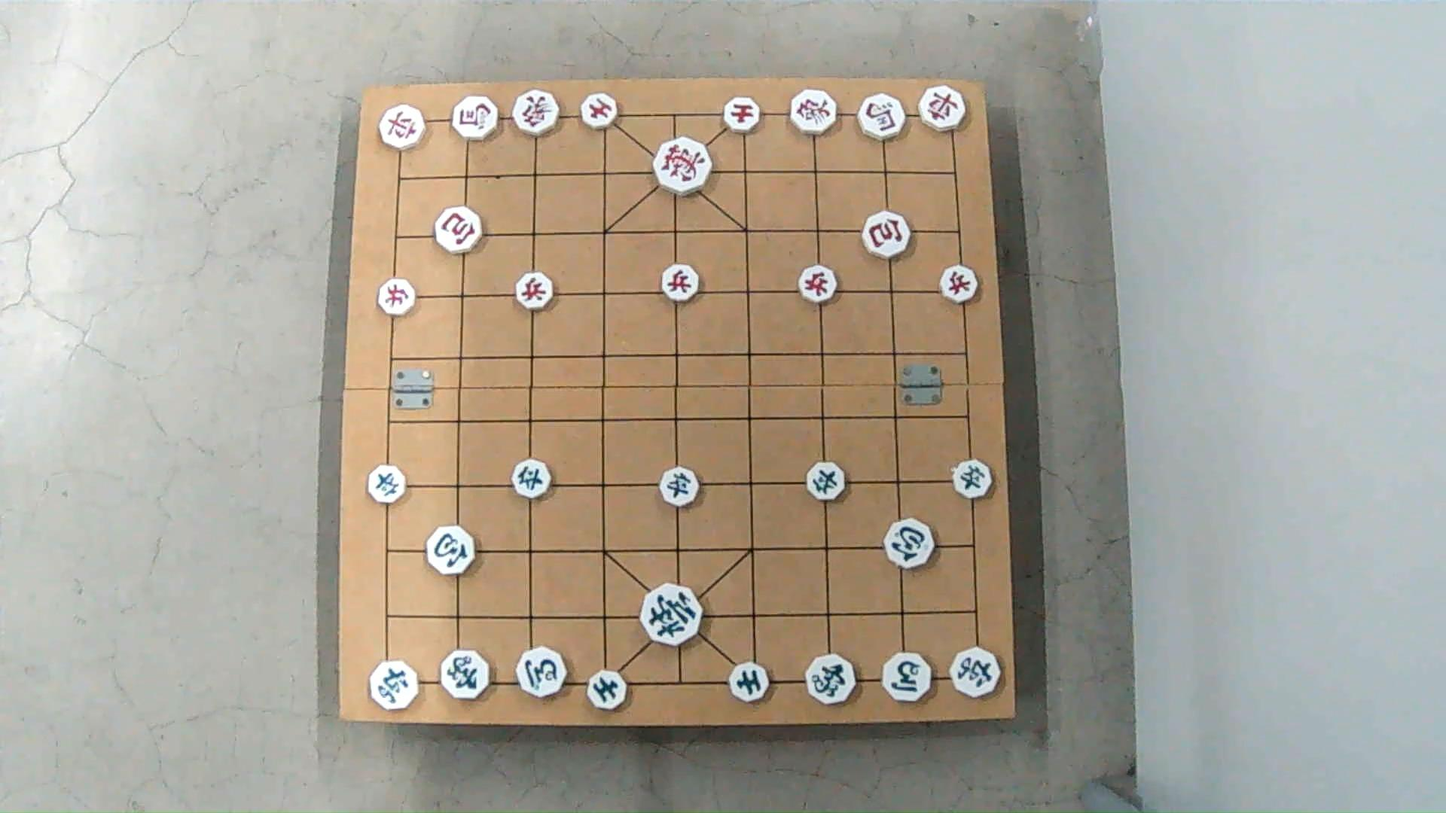cha_green: (950, 645, 1001, 699), (371, 662, 420, 708)
cha_red: (920, 87, 969, 129), (377, 107, 426, 148)
jol_green: (658, 468, 698, 506), (807, 462, 848, 499), (950, 462, 990, 499), (510, 460, 550, 497), (368, 468, 407, 505)
jol_red: (517, 273, 557, 309), (798, 266, 838, 302), (940, 266, 980, 301), (659, 265, 697, 300), (377, 279, 415, 314)
ma_green: (881, 650, 934, 706), (517, 647, 567, 699)
ma_red: (853, 95, 903, 138), (452, 98, 500, 140)
po_green: (883, 521, 935, 568), (429, 528, 477, 572)
po_red: (864, 212, 914, 257), (435, 209, 484, 252)
sa_green: (731, 659, 771, 702), (586, 670, 628, 710)
sa_red: (580, 95, 620, 129), (722, 99, 761, 131)
sang_green: (804, 654, 859, 706), (440, 648, 492, 701)
sang_red: (512, 88, 563, 137), (788, 90, 837, 135)
wang_green: (641, 587, 703, 646)
wang_red: (654, 139, 714, 193)
